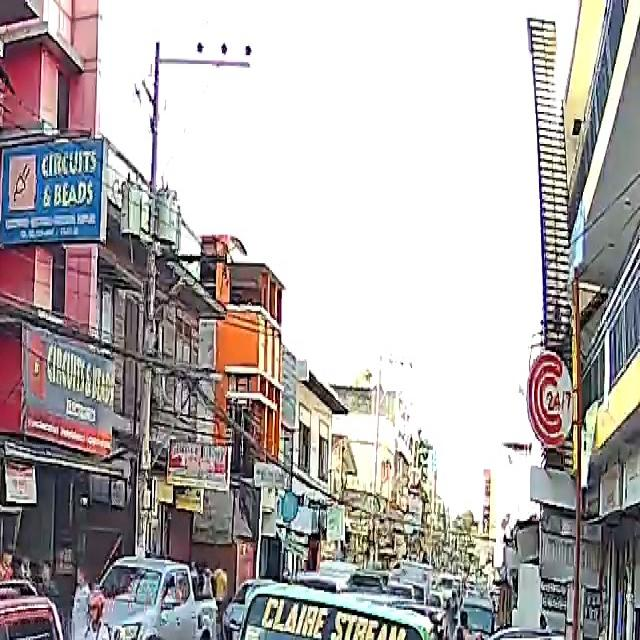car: (74, 540, 222, 640), (0, 551, 158, 640), (471, 622, 609, 640)
